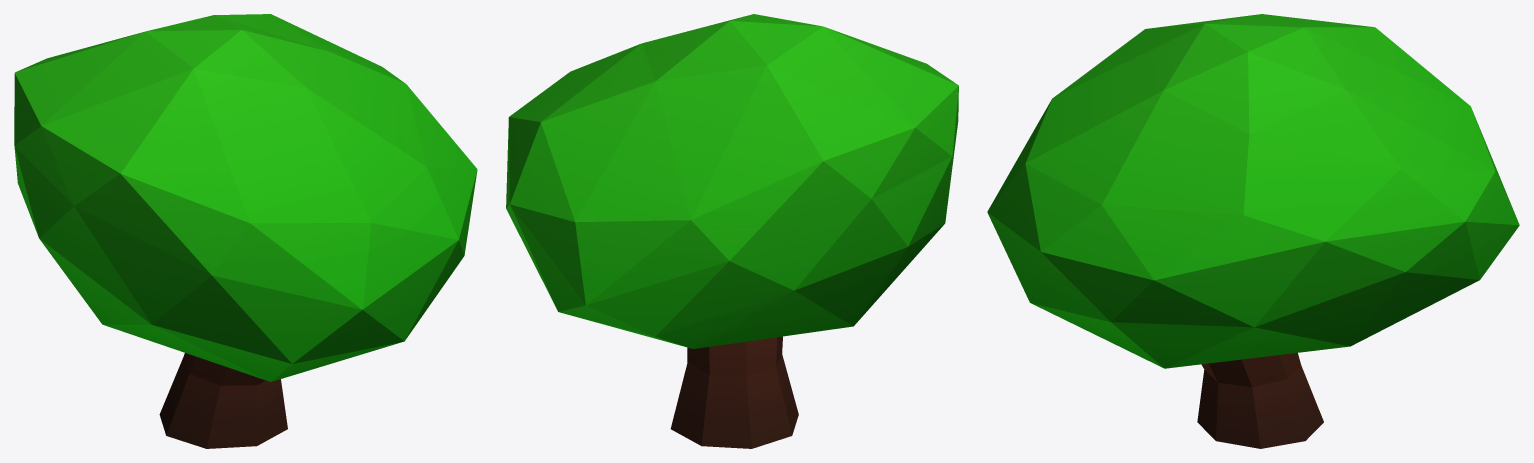
Rendered from FBX_Shrub.fbx.
3 views of the same model, side by side, from view 1: azimuth 30°, elevation 25°; view 2: azimuth 150°, elevation 25°; view 3: azimuth 270°, elevation 25° (orthographic). The views are drawn at different scales.
Parts seen in each view (by area): view 1: M_Shrub; view 2: M_Shrub; view 3: M_Shrub.
Boxes of the visible parts, box(x1,y1,x2,y2) form: M_Shrub: box(14, 14, 477, 448); M_Shrub: box(506, 14, 958, 448); M_Shrub: box(987, 14, 1519, 448).
Bounding box in the file's own units: 0.7326 × 0.7227 × 0.9289.
